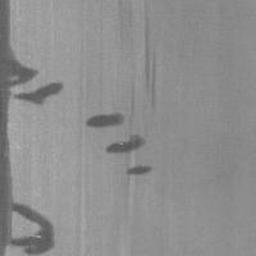Water spot: (0, 0, 65, 256), (104, 132, 148, 156), (84, 110, 127, 129), (125, 164, 154, 177)
